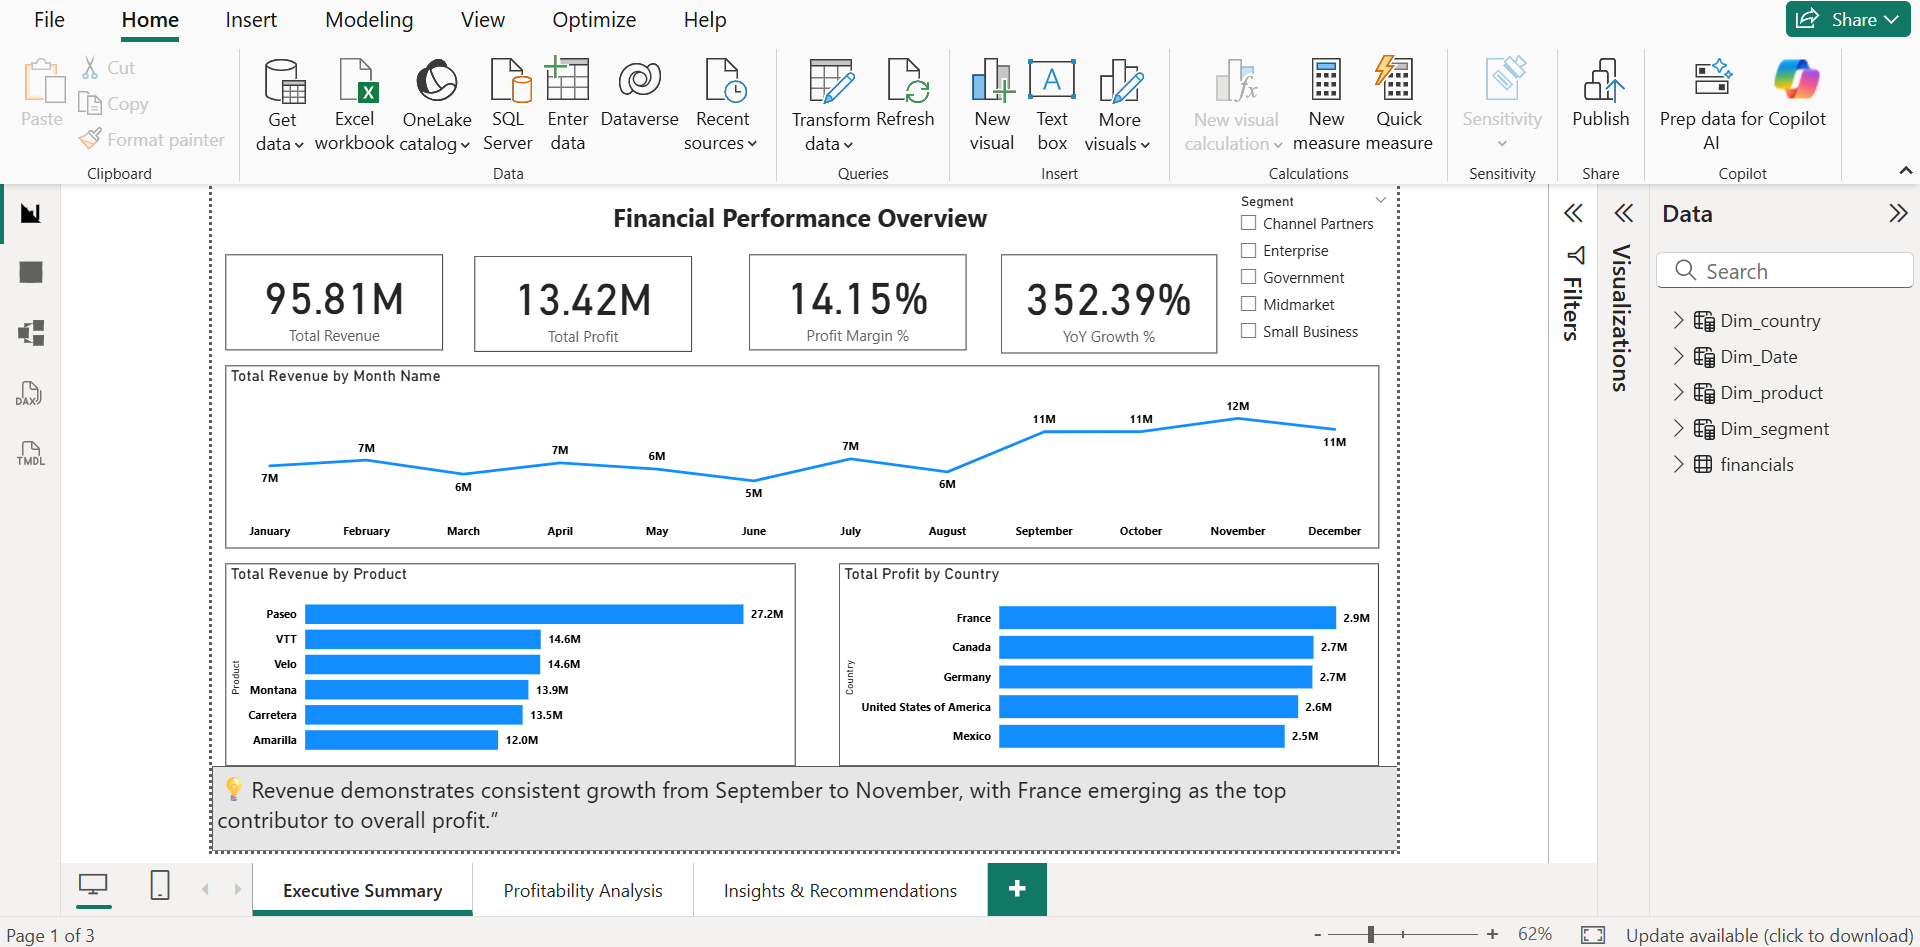

Layout of this report page (visuals, bound fields, positions):
{"tool":"powerbi","page":{"name":"Executive Summary","canvas":[1280,720],"ordinal":0},"visuals":[{"type":"card","fields":{"Values":["Dim_Date.Total Revenue"]},"box":[14.6,76.1,234.8,103.6],"z":0},{"type":"card","fields":{"Values":["Dim_Date.Total Profit"]},"box":[283.4,77.7,234.8,103.6],"z":1},{"type":"card","fields":{"Values":["Avg(Dim_Date.Profit Margin %)"]},"box":[579.7,76.1,234.8,103.6],"z":2},{"type":"card","fields":{"Values":["Dim_Date.YoY Growth %"]},"box":[851.7,76.1,233.2,106.9],"z":3},{"type":"lineChart","fields":{"Y":["Dim_Date.Total Revenue"],"Category":["Dim_Date.Month Name"]},"box":[14.6,195.9,1245.2,197.5],"z":4},{"type":"clusteredBarChart","fields":{"Category":["Dim_country.Country"],"Y":["Dim_Date.Total Profit"]},"box":[676.8,409.7,582.9,218.6],"z":5},{"type":"clusteredBarChart","fields":{"Category":["Dim_product.Product"],"Y":["Dim_Date.Total Revenue"]},"box":[14.6,409.7,615.3,218.6],"z":6},{"type":"textbox","box":[25.9,13,1217.7,48.6],"z":7},{"type":"slicer","fields":{"Values":["Dim_segment.Segment"]},"box":[1097.8,4.9,183,174.9],"z":8},{"type":"textbox","box":[0,628.3,1280.8,92.3],"z":9}]}

Visuals, with their boxes on the page's 1280x720 design canvas (x1, y1, x2, y2). These are canvas units, not pixel positions in the 1920x947 screenshot, which may show the page scaled, cropped or inside an application window:
card - Dim_Date.Total Revenue: [15, 76, 249, 180]
card - Dim_Date.Total Profit: [283, 78, 518, 181]
card - Avg(Dim_Date.Profit Margin %): [580, 76, 814, 180]
card - Dim_Date.YoY Growth %: [852, 76, 1085, 183]
lineChart - Dim_Date.Total Revenue x Dim_Date.Month Name: [15, 196, 1260, 393]
clusteredBarChart - Dim_country.Country x Dim_Date.Total Profit: [677, 410, 1260, 628]
clusteredBarChart - Dim_product.Product x Dim_Date.Total Revenue: [15, 410, 630, 628]
textbox: [26, 13, 1244, 62]
slicer - Dim_segment.Segment: [1098, 5, 1281, 180]
textbox: [0, 628, 1281, 721]
